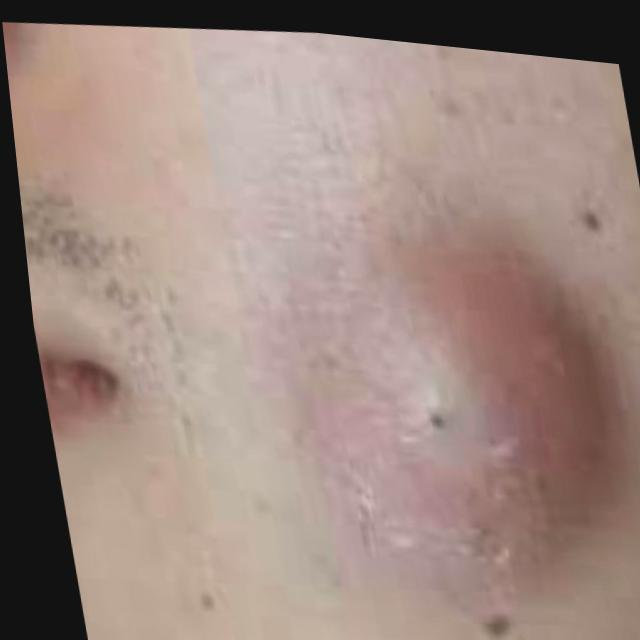nodule: (267, 221, 640, 640)
